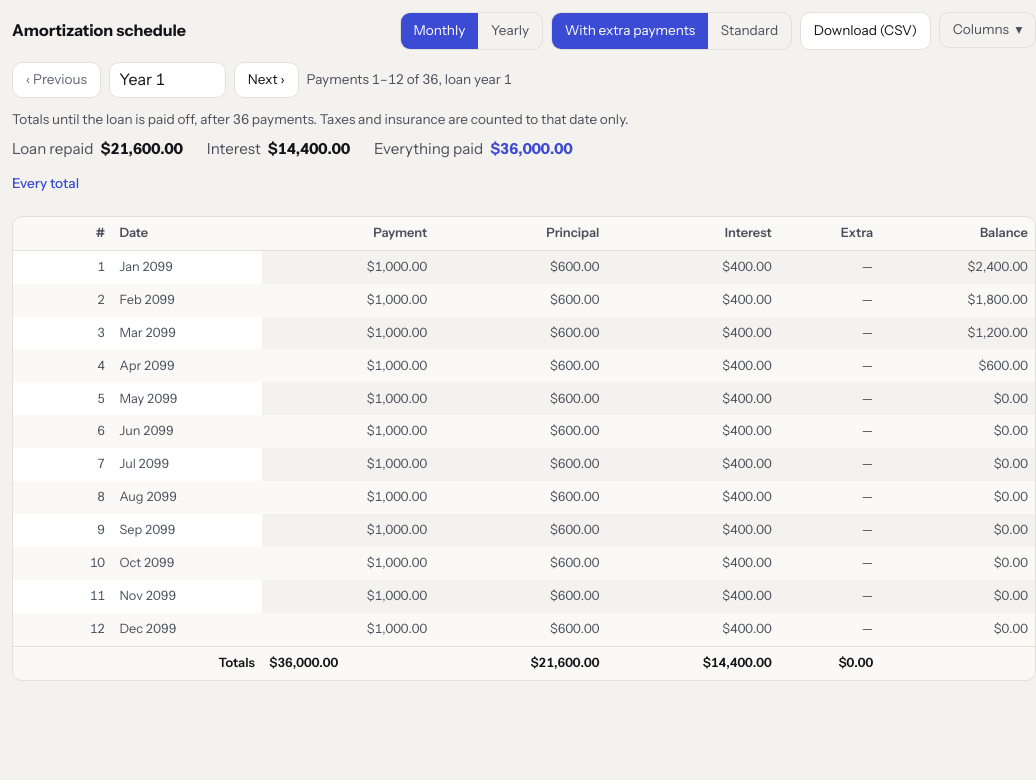
Test: ScheduleTableComponent › choosing columns › paging by loan year › shows every payment when asked, and has no year to step from then
Select "All payments" in the dropdown with test id "page-year" at (167, 80), box top-left (109, 62), bottom-right (226, 98)
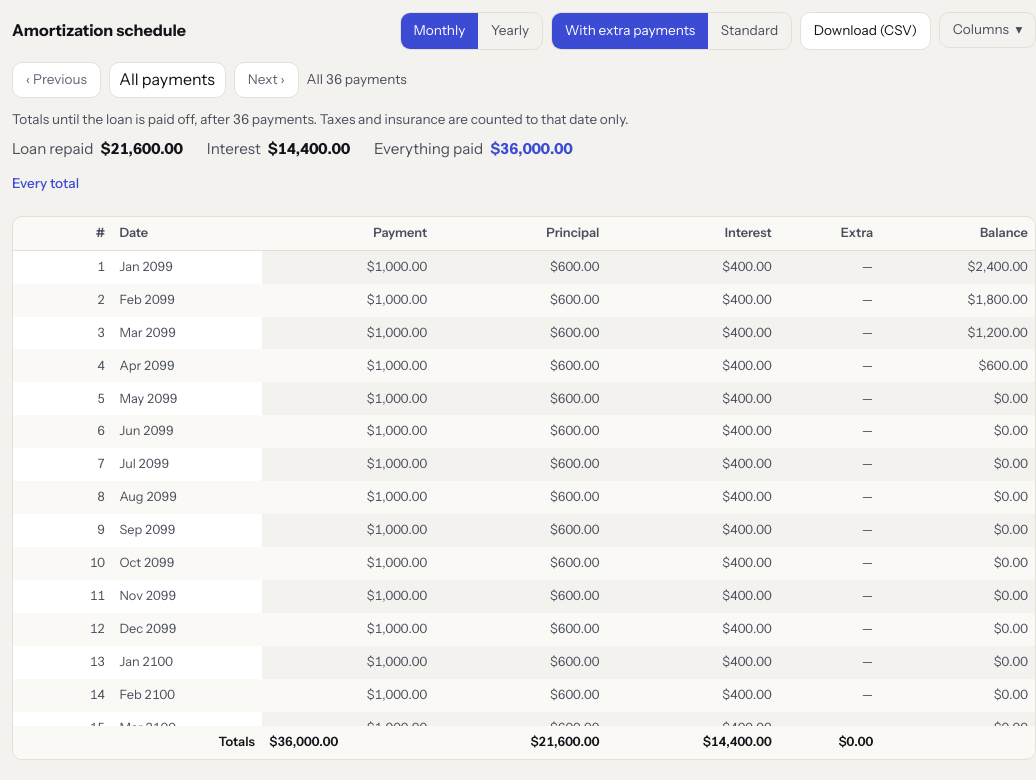
Expected: the text with test id "page-caption" reads "All 36 payments", top-left (307, 71), bottom-right (407, 87)
Expected: the button with test id "page-next" is disabled, top-left (234, 62), bottom-right (299, 98)
